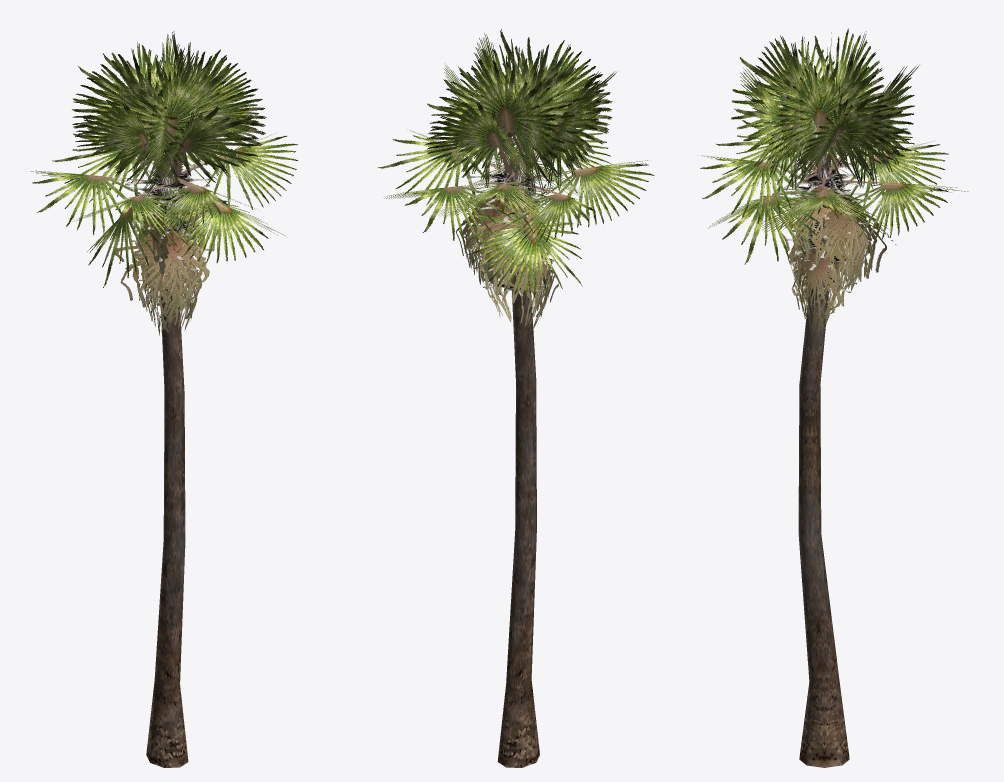
The model's file is palm_palmyra_3.glb.
The picture shows the model from 3 angles, left to right: view 1: azimuth 30°, elevation 25°; view 2: azimuth 150°, elevation 25°; view 3: azimuth 270°, elevation 25°; orthographic projection.
Visible parts, largest first — view 1: palm_palmyra_3; view 2: palm_palmyra_3; view 3: palm_palmyra_3.
Boxes of the visible parts, left/top/right/bottom form: palm_palmyra_3: left=30, top=31, right=297, bottom=767; palm_palmyra_3: left=378, top=29, right=654, bottom=767; palm_palmyra_3: left=700, top=28, right=968, bottom=767.
Bounding box in the file's own units: 10.82 × 27.74 × 10.59.
Materials: 1 (1 with a texture image).
